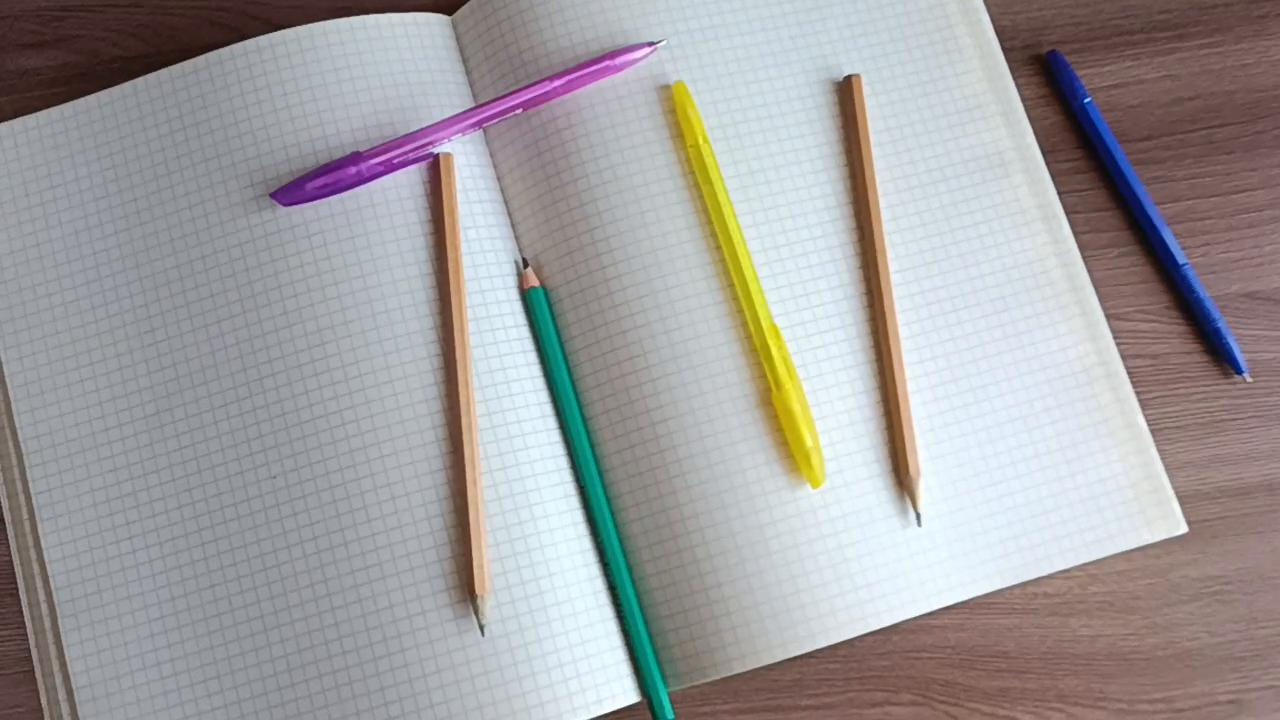pen: (1034, 45, 1257, 394), (266, 31, 673, 211), (669, 77, 835, 495)
pencil: (517, 253, 682, 720), (836, 60, 935, 534), (427, 146, 495, 642)
